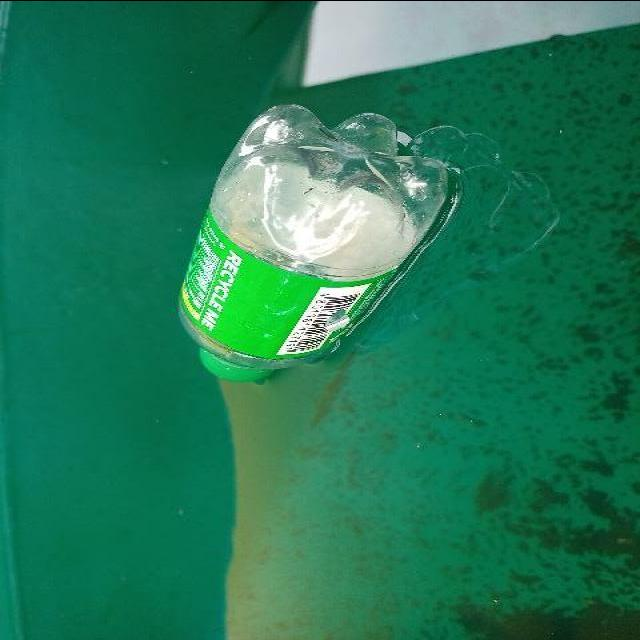Bottle: (178, 102, 462, 384)
